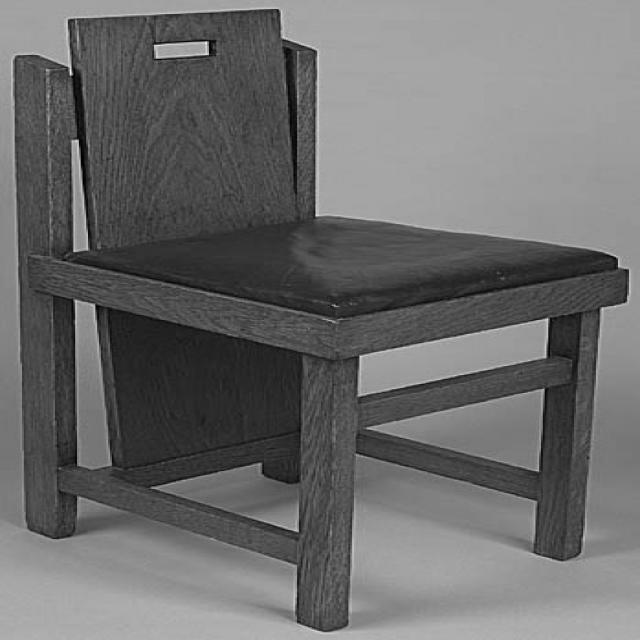chair: (11, 0, 635, 632)
